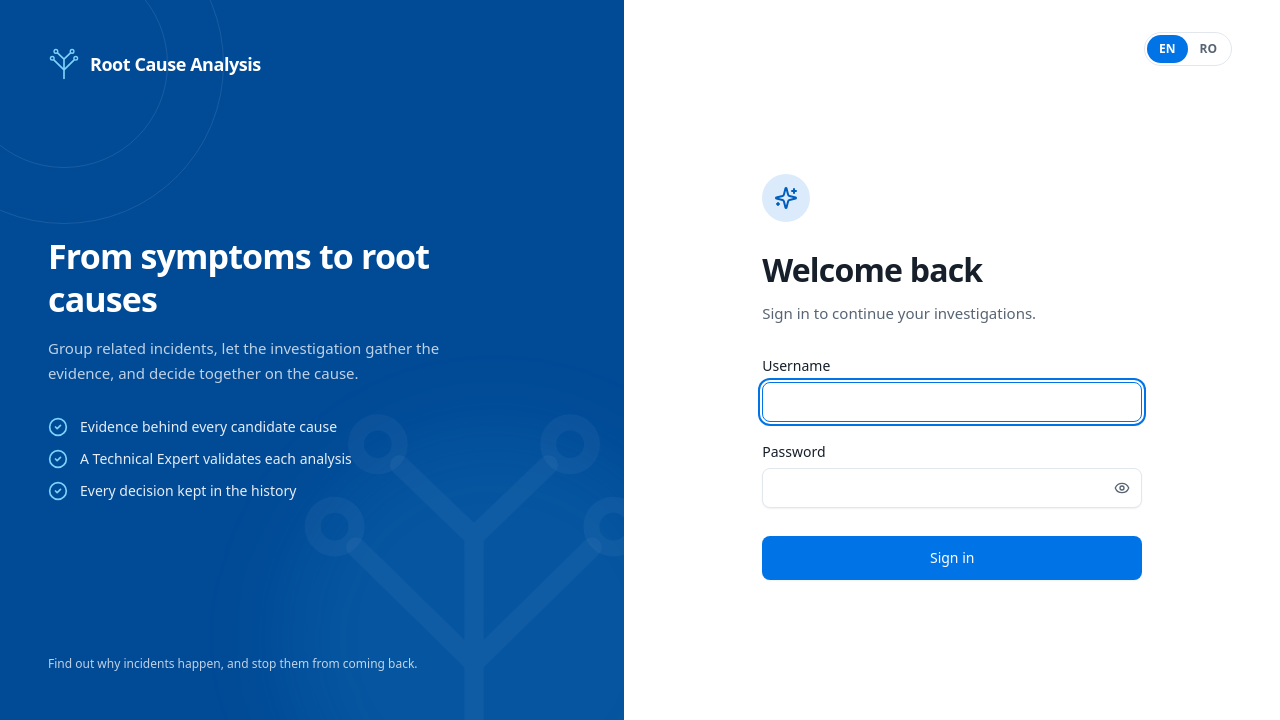
Test case: login › switches the login page to Romanian
Click the radio button with aria-label "Română". click: (1208, 49)
box: [1188,35,1229,63]
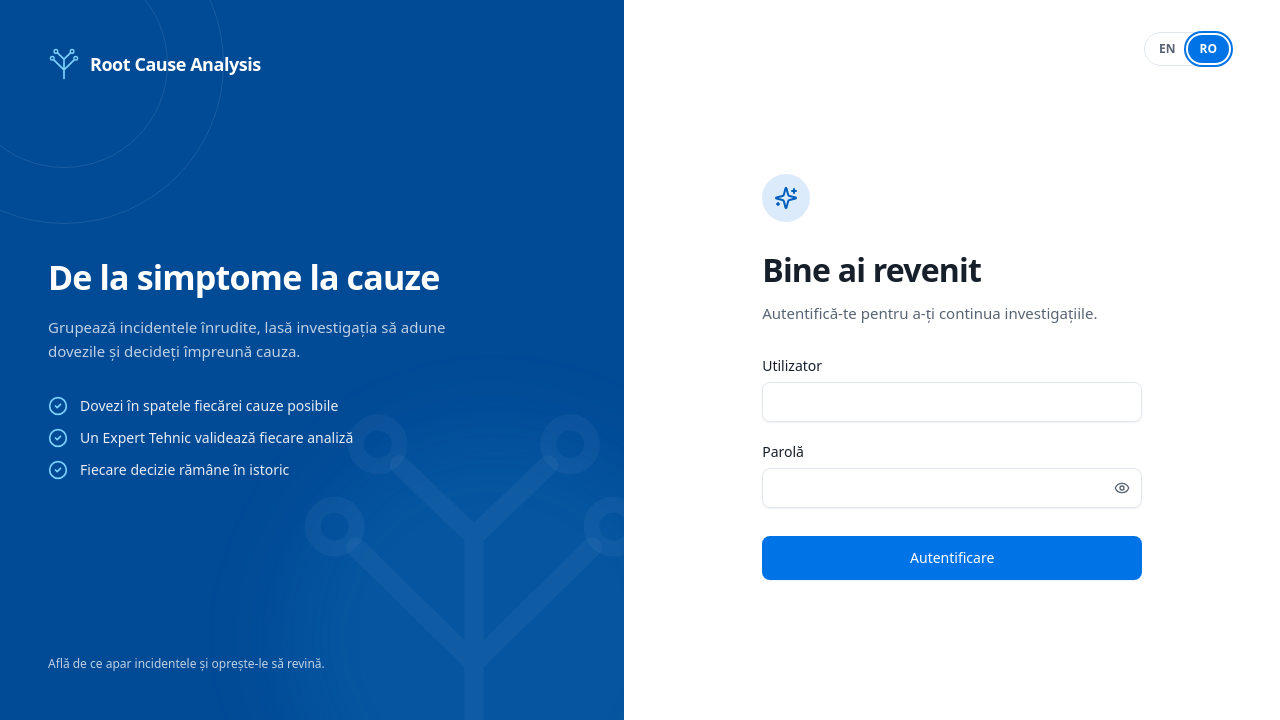
Result: the heading "Bine ai revenit" is shown at [762,248,981,291]
